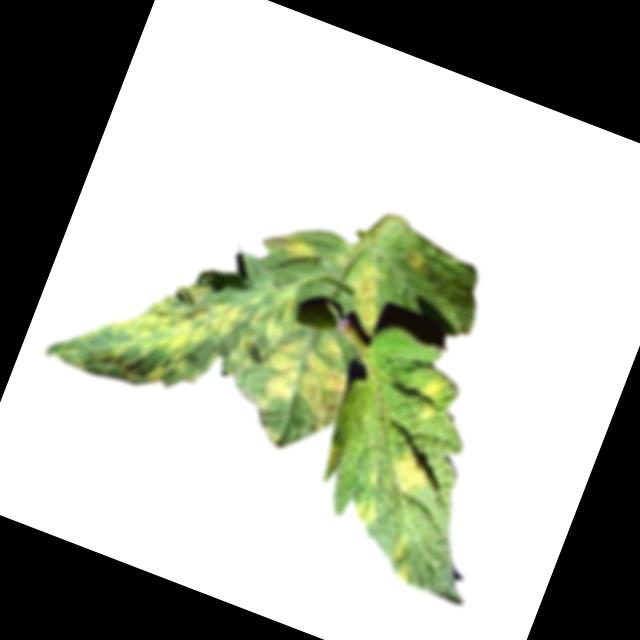Leaf_Mold: (43, 219, 286, 431), (245, 314, 364, 437), (331, 246, 403, 335), (377, 444, 439, 507), (263, 222, 321, 266), (410, 372, 453, 429), (383, 531, 426, 588), (344, 489, 382, 532), (400, 246, 426, 273)
